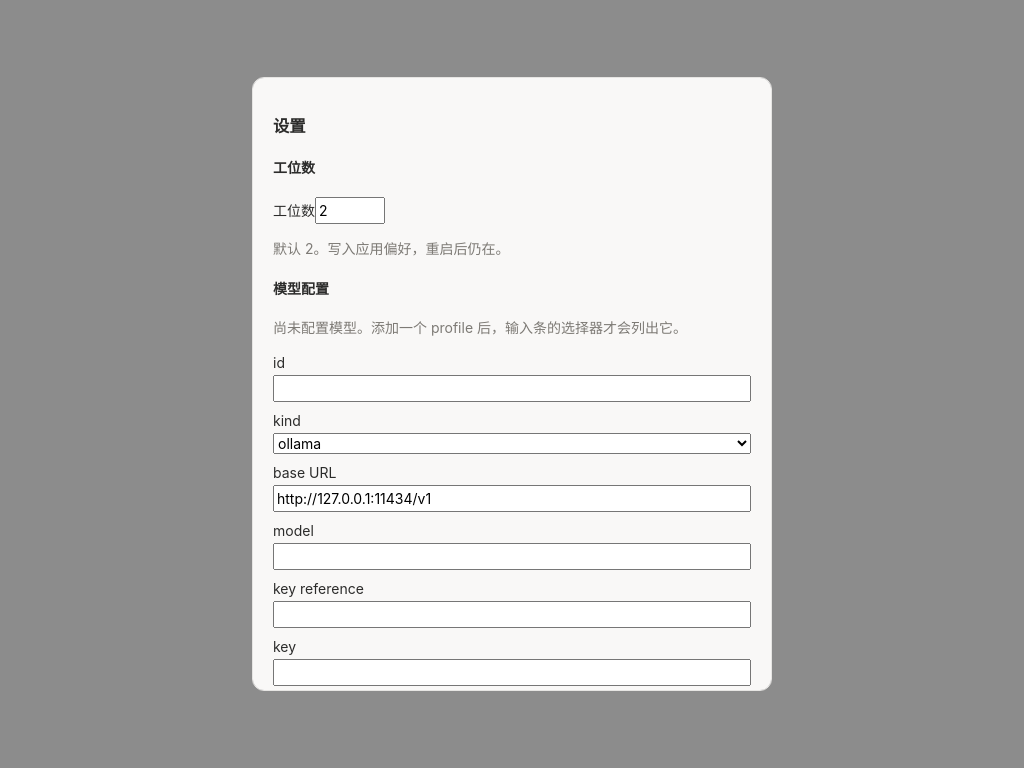
it: SettingsPanel (C2 deepseek) › selecting deepseek prefills base URL and model with DeepSeek defaults
Select "deepseek" in the dropdown named "profile kind" at (512, 444), box [273,433,751,454]
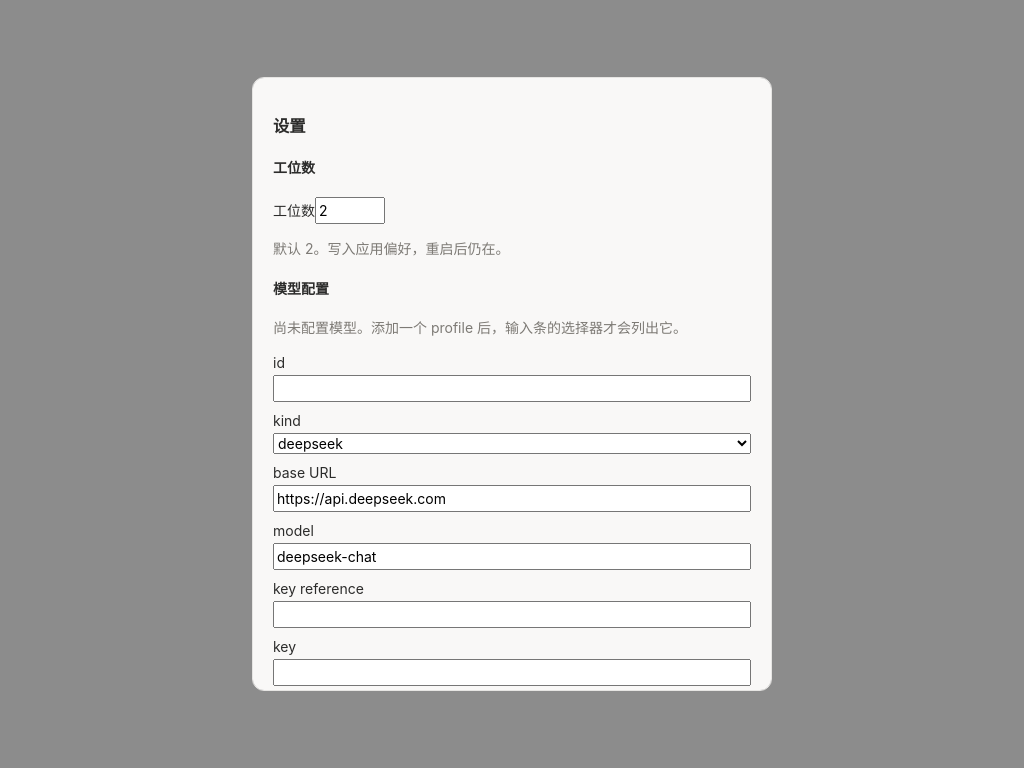
Check: the field named "profile base url" holds "https://api.deepseek.com", box [273,485,751,512]
Check: the field named "profile model" holds "deepseek-chat", box [273,543,751,570]
